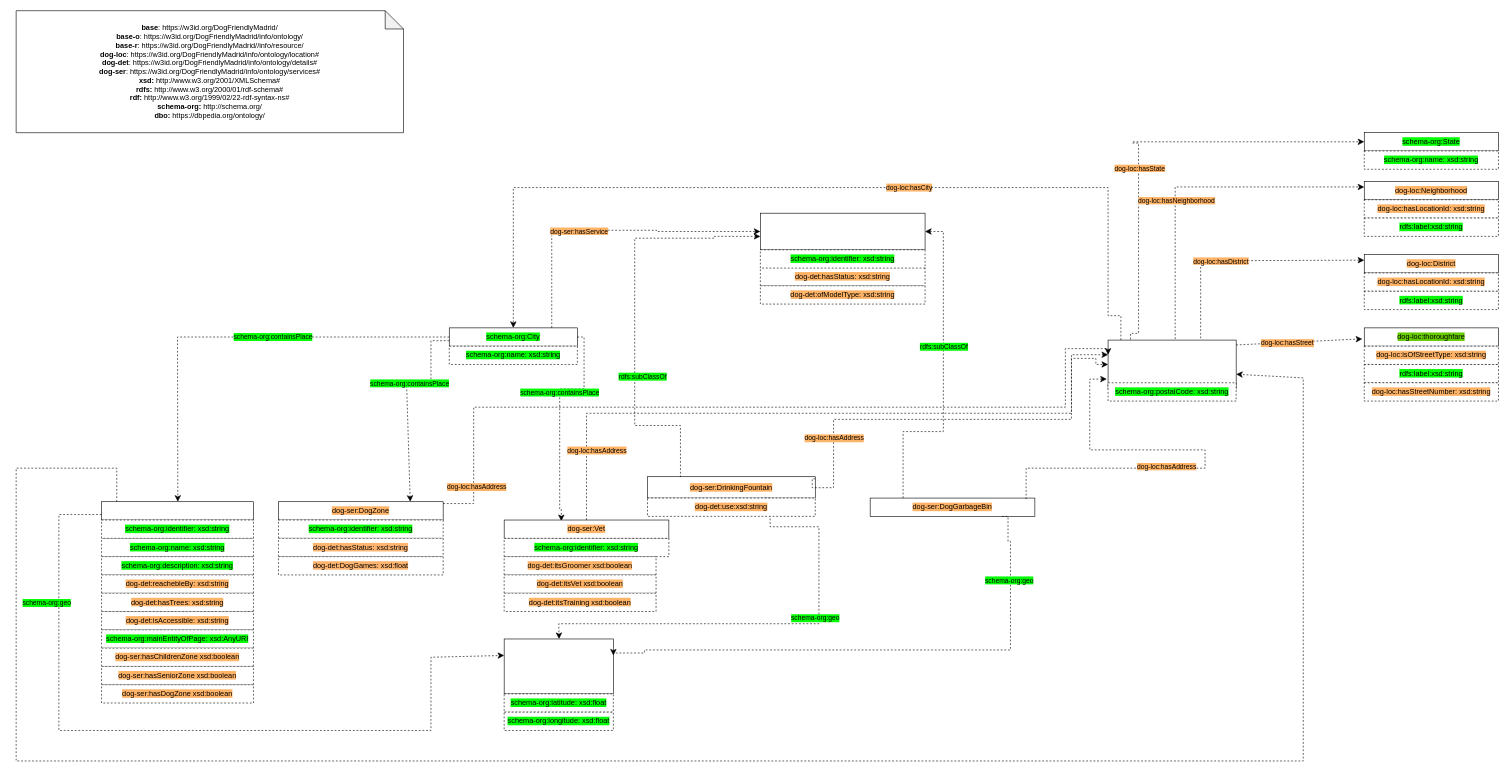
The diagram is 1509 pixels wide and 778 high, and some of its shapes have lost their labels. Each missing label, with the box of its shape:
doc-ser:Services: (760, 213, 925, 250)
dog-loc:address: (1107, 339, 1236, 389)
schema-org:GeoCoordinates: (504, 638, 613, 694)
schema-org:Park: (101, 501, 253, 520)
